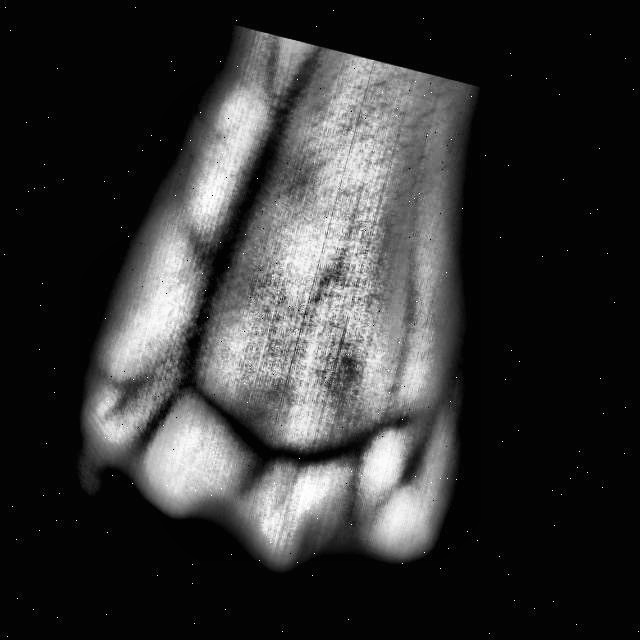Vein: (181, 124, 288, 354)
